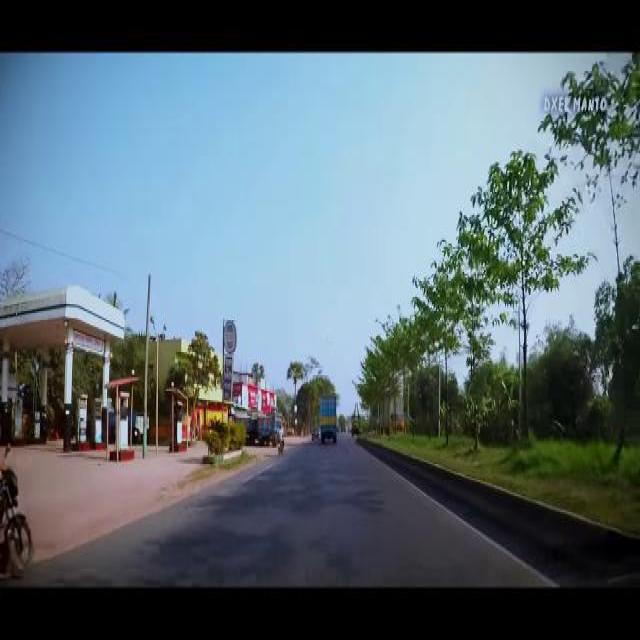motorbike: (275, 423, 285, 459)
truck: (318, 392, 337, 444), (257, 410, 277, 442), (388, 411, 406, 432)
